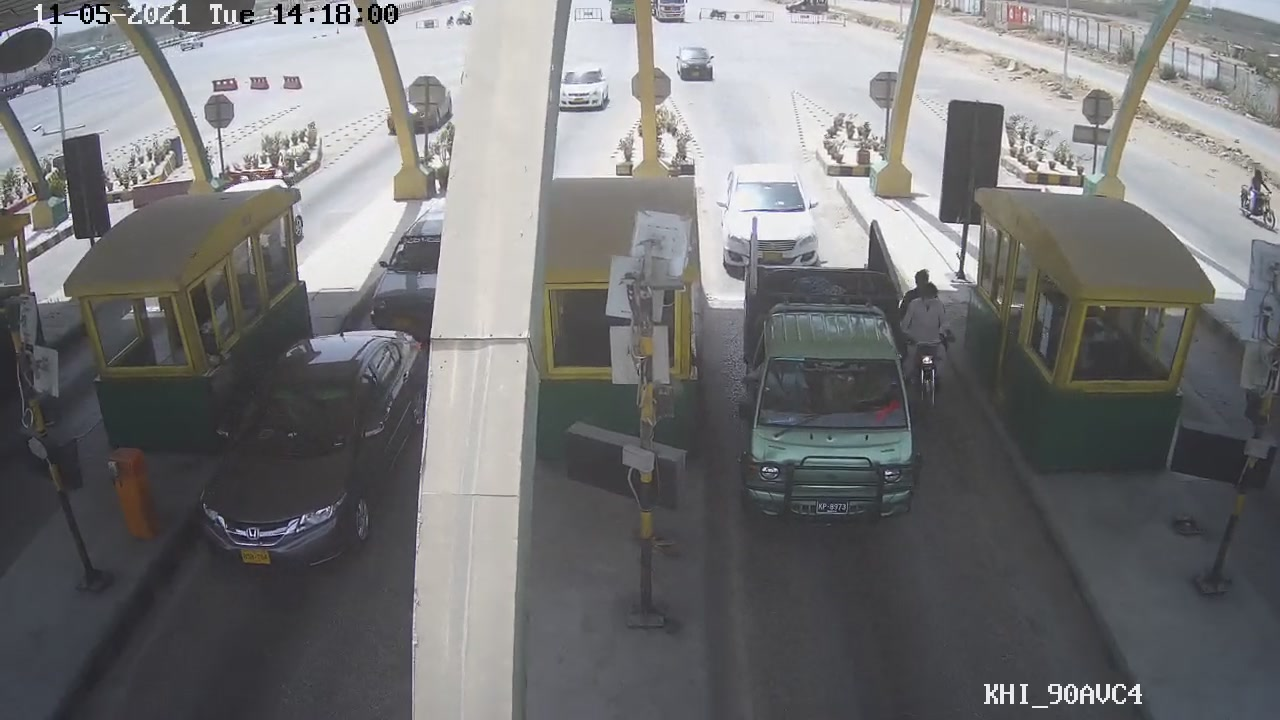F1: (729, 225, 913, 544)
